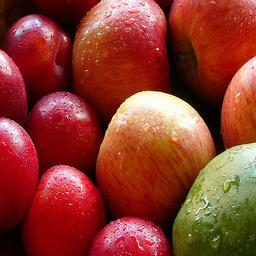apple: (97, 90, 217, 221), (71, 1, 172, 121), (170, 1, 256, 102), (23, 164, 107, 254), (24, 90, 102, 176), (2, 13, 72, 103), (1, 116, 38, 229), (88, 215, 172, 255)
